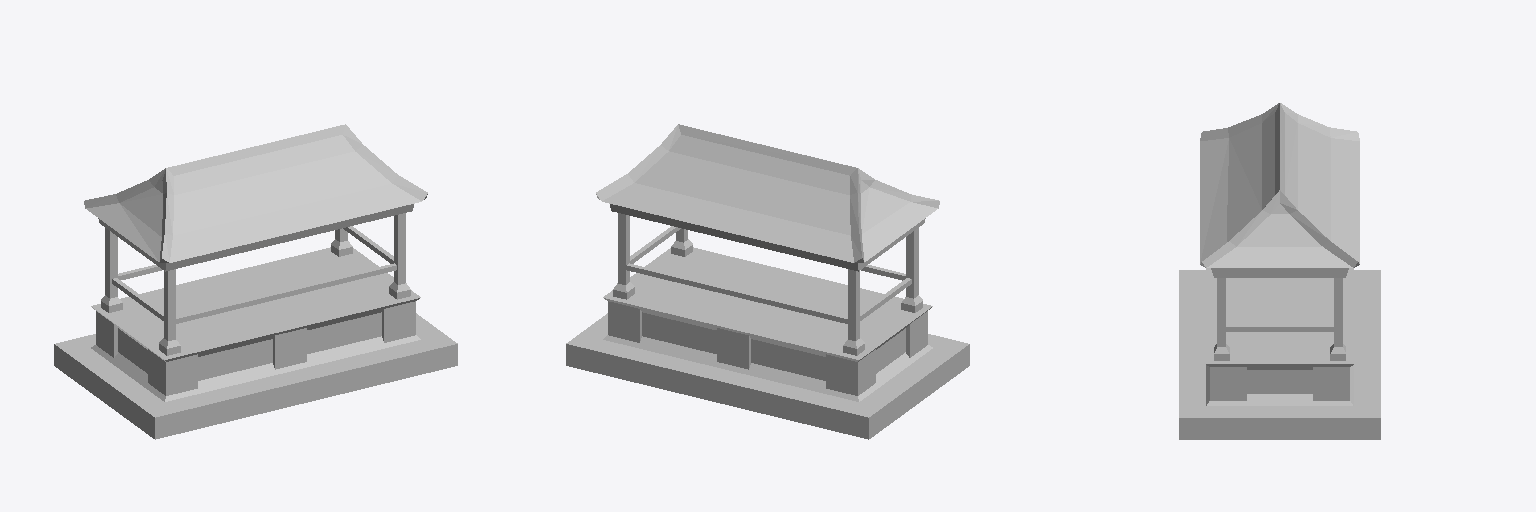
File: TD_StaticBuildingL.obj
3 views of the same model, side by side, from view 1: azimuth 30°, elevation 25°; view 2: azimuth 150°, elevation 25°; view 3: azimuth 270°, elevation 25° (orthographic).
Parts seen in each view (by area): view 1: polySurface17; view 2: polySurface17; view 3: polySurface17.
Part boxes in pixels (x1,y1,x2,y2): polySurface17: (54,124,457,439); polySurface17: (566,124,969,439); polySurface17: (1179,103,1380,439).
Size of the model in its own units: 4.72 by 3.27 by 2.72.